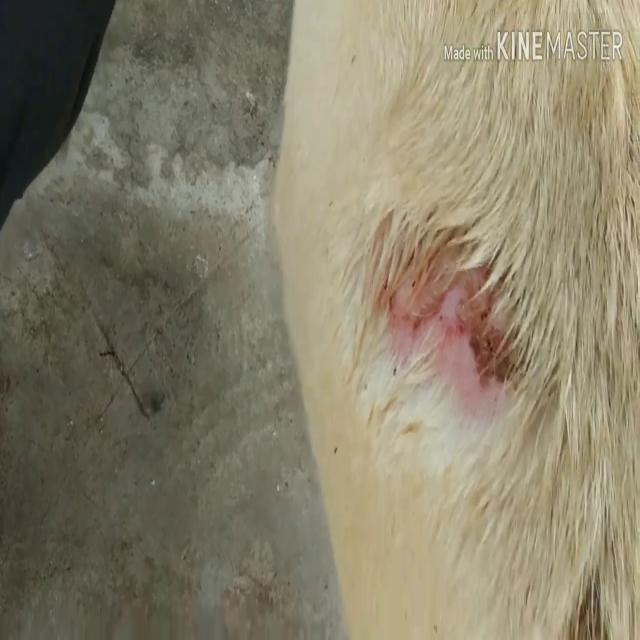hac lao: (312, 177, 596, 445)
